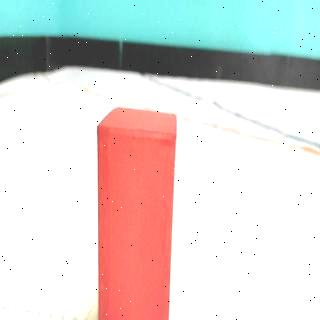redbox: (96, 106, 178, 320)
